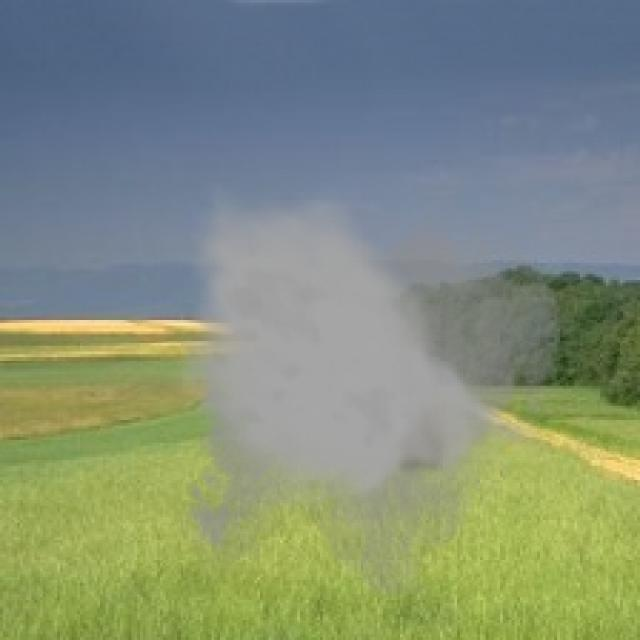smoke: (174, 183, 566, 597)
